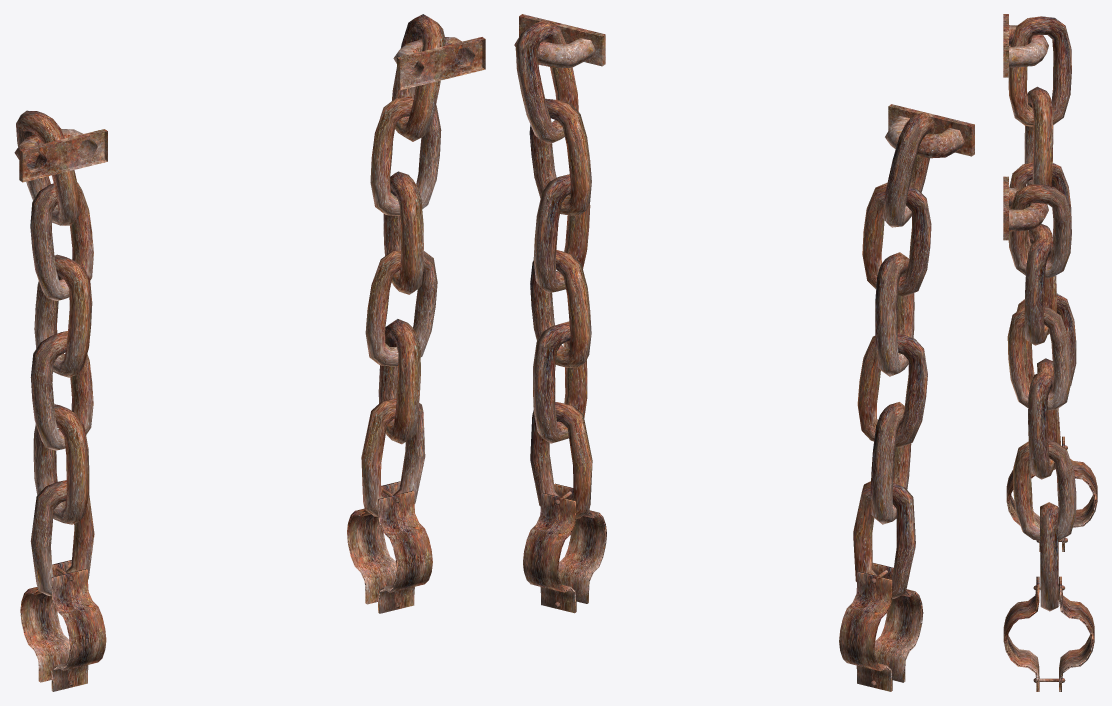
Rendered from Chains.fbx.
3 views of the same model, side by side, from view 1: azimuth 30°, elevation 25°; view 2: azimuth 150°, elevation 25°; view 3: azimuth 270°, elevation 25° (orthographic). The views are drawn at different scales.
Visible parts, largest first — view 1: Chain14; view 2: Chain14; view 3: Chain14.
Boxes of the visible parts, x1,y1,x2,y2 form: Chain14: (14, 14, 485, 691); Chain14: (514, 14, 974, 691); Chain14: (1003, 14, 1097, 691).
Bounding box in the file's own units: 1.18 × 1.42 × 0.2355.
